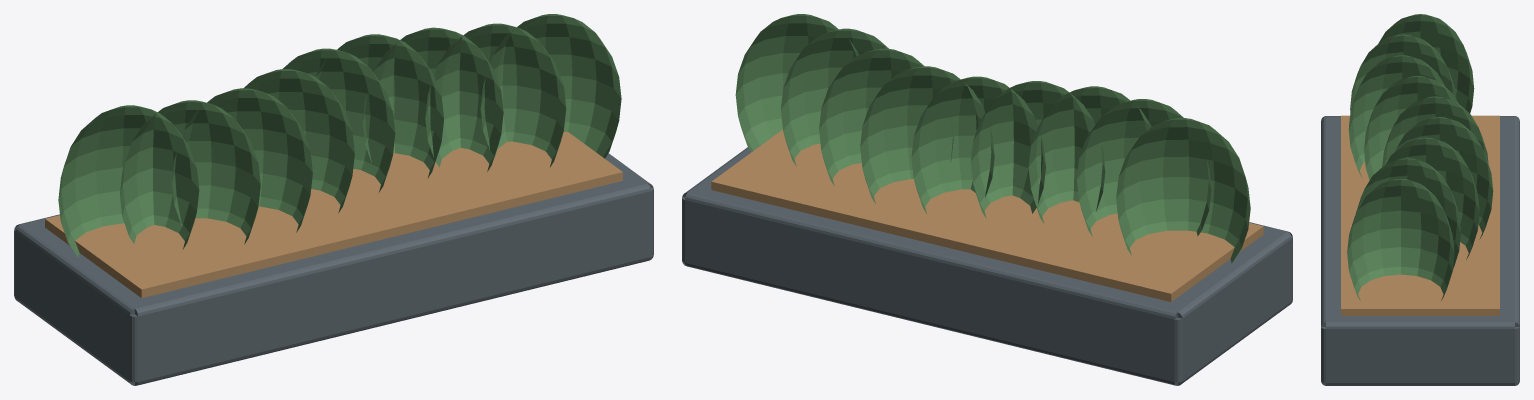
The model's file is basketball-club-and-street-courts-planting-bed-07cb434d__28575.glb.
The picture shows the model from 3 angles, left to right: view 1: azimuth 30°, elevation 25°; view 2: azimuth 150°, elevation 25°; view 3: azimuth 270°, elevation 25°; orthographic projection. The views are drawn at different scales.
Visible parts, largest first — view 1: planting-bed; view 2: planting-bed; view 3: planting-bed.
Boxes of the visible parts, bbox=[...] form: planting-bed: bbox=[14, 14, 653, 385]; planting-bed: bbox=[682, 14, 1292, 385]; planting-bed: bbox=[1321, 14, 1519, 385].
Bounding box in the file's own units: 2.56 × 1.01 × 0.9999.
